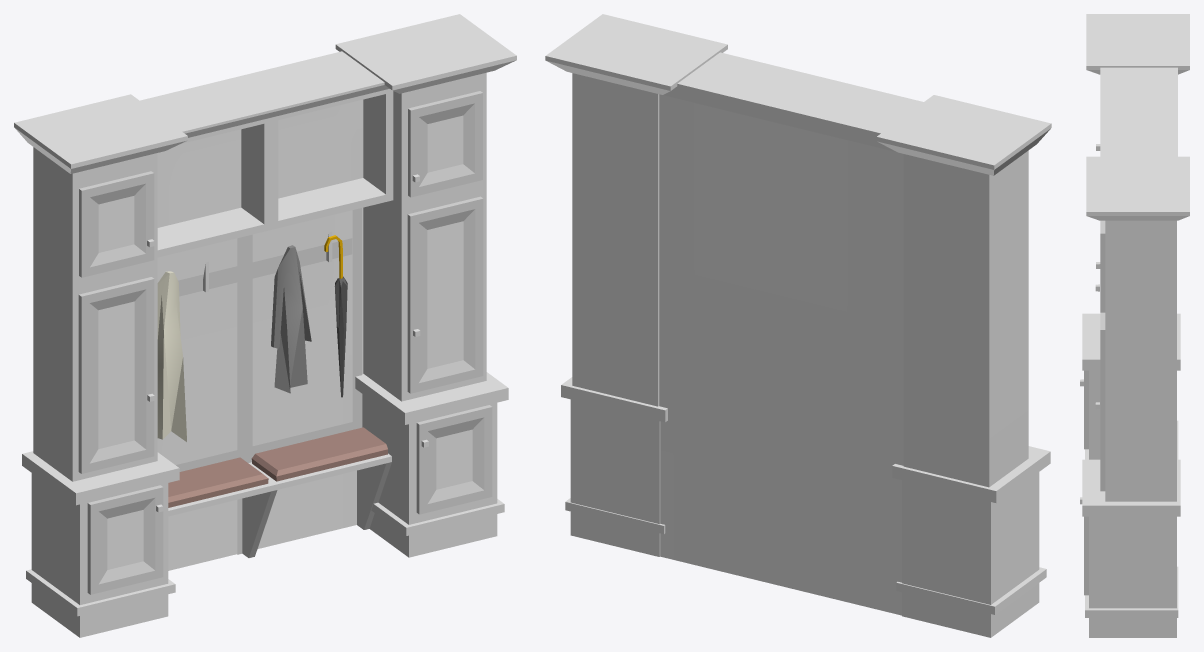
File: closet_038.glb
3 renders of one model, left to right at view 1: azimuth 30°, elevation 25°; view 2: azimuth 150°, elevation 25°; view 3: azimuth 270°, elevation 25°, orthographic. The views are drawn at different scales.
Parts seen in each view (by area): view 1: closet_038; view 2: closet_038; view 3: closet_038.
Boxes of the visible parts, x1,y1,x2,y2 form: closet_038: (14, 14, 516, 637); closet_038: (545, 14, 1051, 637); closet_038: (1080, 14, 1189, 637).
Bounding box in the file's own units: 2.47 × 2.53 × 0.5794.
1 material, 1 textured.
